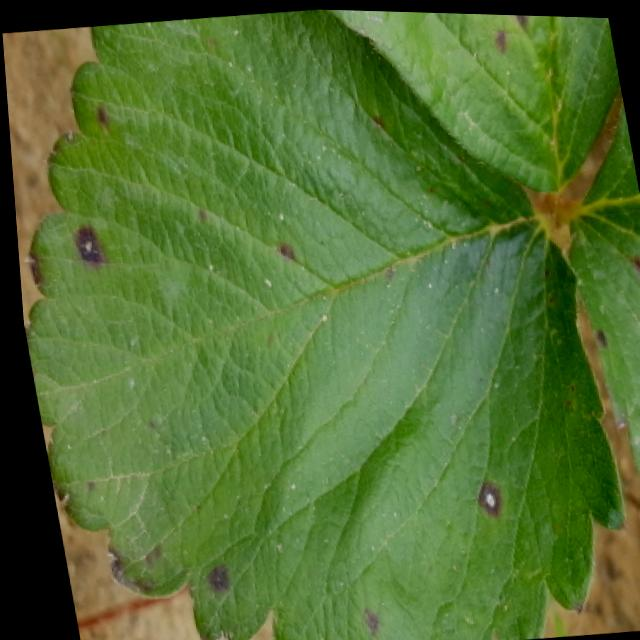Leaf Spot: (19, 7, 619, 640), (329, 8, 618, 189), (556, 91, 640, 499)
